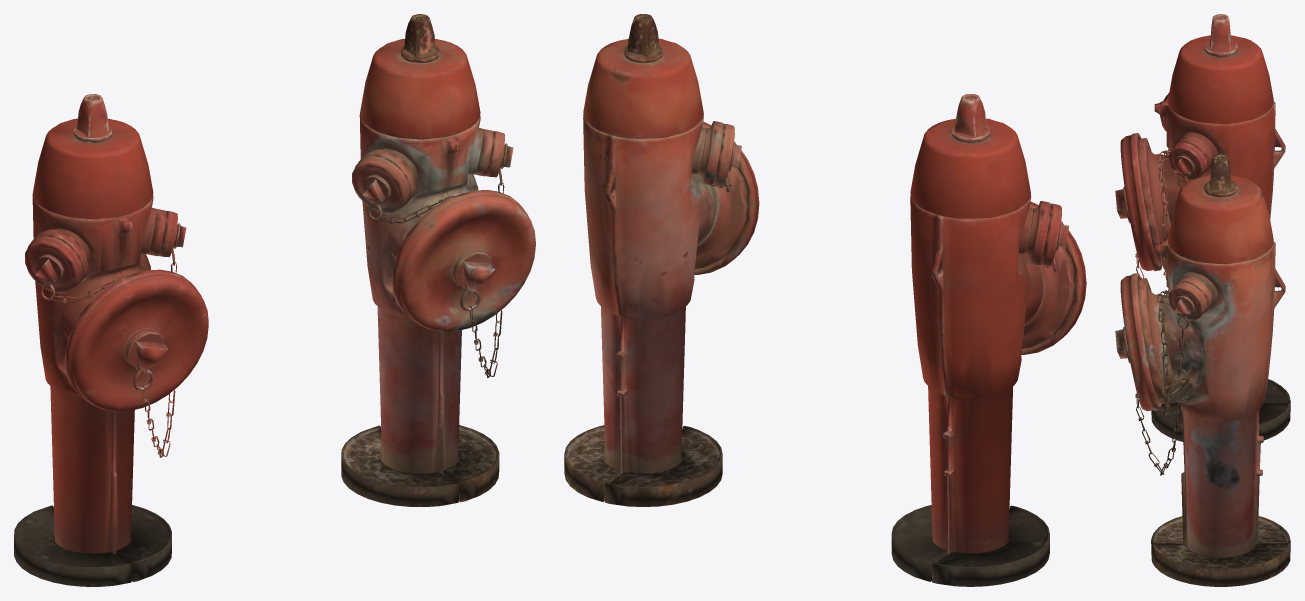
The model's file is fire_hydrant.glb.
3 renders of one model, left to right at view 1: azimuth 30°, elevation 25°; view 2: azimuth 150°, elevation 25°; view 3: azimuth 270°, elevation 25°, orthographic. The views are drawn at different scales.
Parts seen in each view (by area): view 1: fire_hydrant, fire_hydrant_aged; view 2: fire_hydrant, fire_hydrant_aged; view 3: fire_hydrant_aged, fire_hydrant.
Boxes of the visible parts, x1,y1,x2,y2 form: fire_hydrant: [14, 94, 208, 586]; fire_hydrant_aged: [341, 14, 535, 506]; fire_hydrant: [891, 94, 1086, 586]; fire_hydrant_aged: [564, 14, 759, 506]; fire_hydrant_aged: [1115, 154, 1290, 586]; fire_hydrant: [1115, 14, 1290, 441].
Bounding box in the file's own units: 0.8745 × 0.7994 × 0.3173.
Materials: 2 (2 with a texture image).
